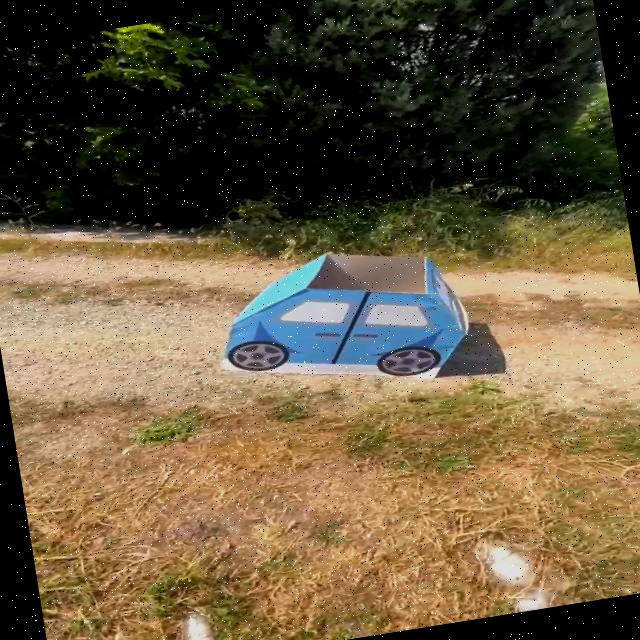blue_car: (185, 226, 504, 424)
